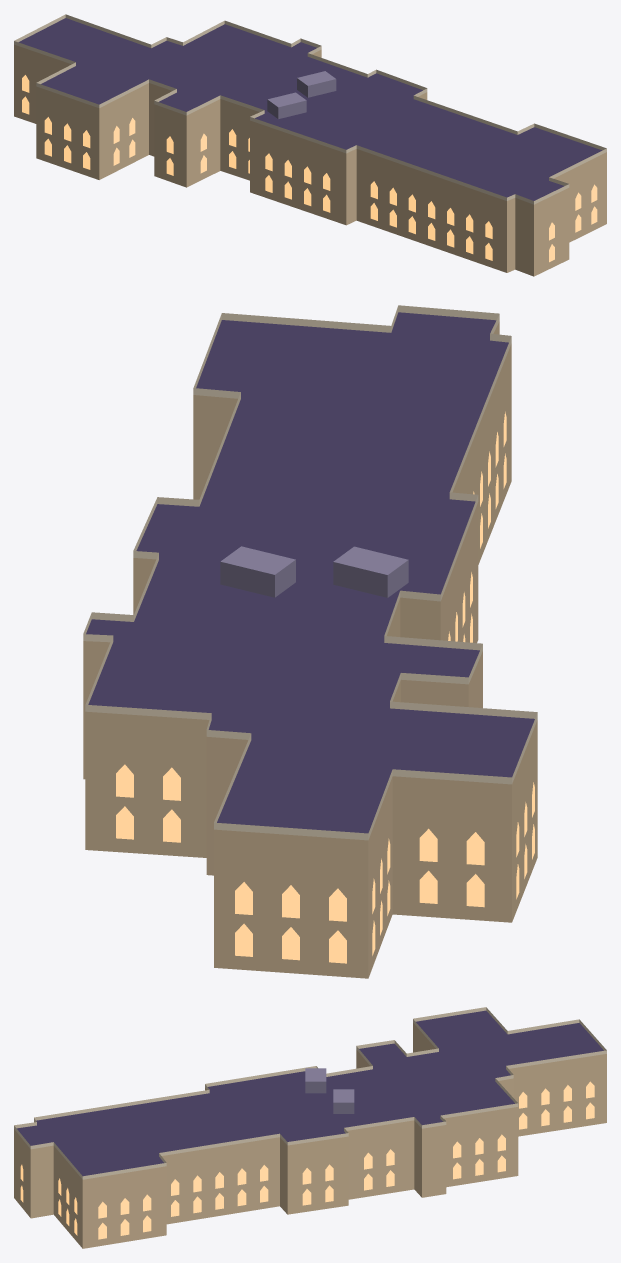
3 views of the same model, one above another, from view 1: azimuth 30°, elevation 25°; view 2: azimuth 150°, elevation 25°; view 3: azimuth 270°, elevation 25° (orthographic). The views are drawn at different scales.
Parts seen in each view (by area): view 1: campus/b-047-0; view 2: campus/b-047-0; view 3: campus/b-047-0.
Boxes of the visible parts, box(x1,y1,x2,y2) form: campus/b-047-0: box(14, 14, 606, 276); campus/b-047-0: box(83, 305, 537, 978); campus/b-047-0: box(14, 1007, 606, 1248).
Bounding box in the file's own units: 57.21 × 12.7 × 84.73.
